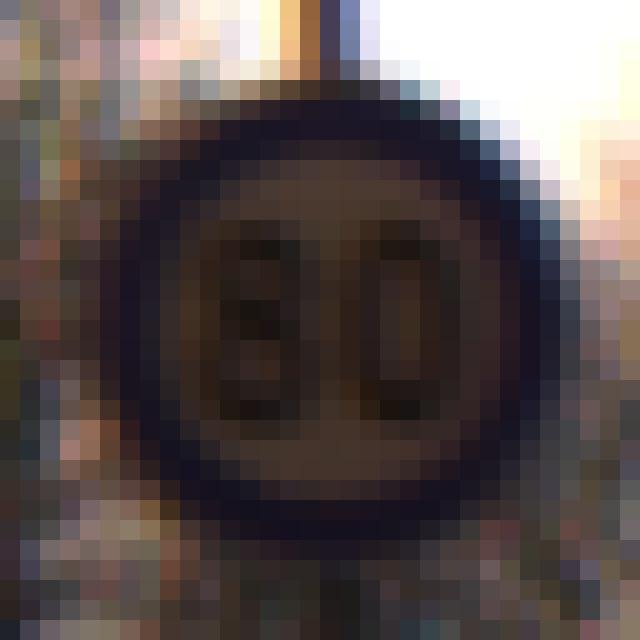SPEED-LIMIT-80: (76, 91, 566, 535)
